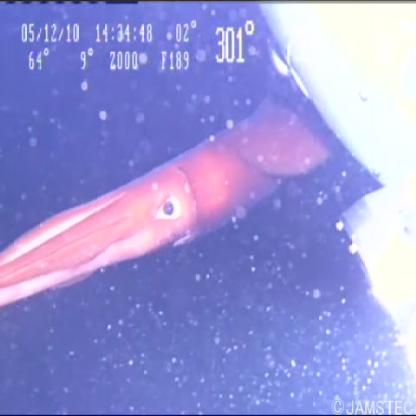Bio: (1, 89, 332, 310)
